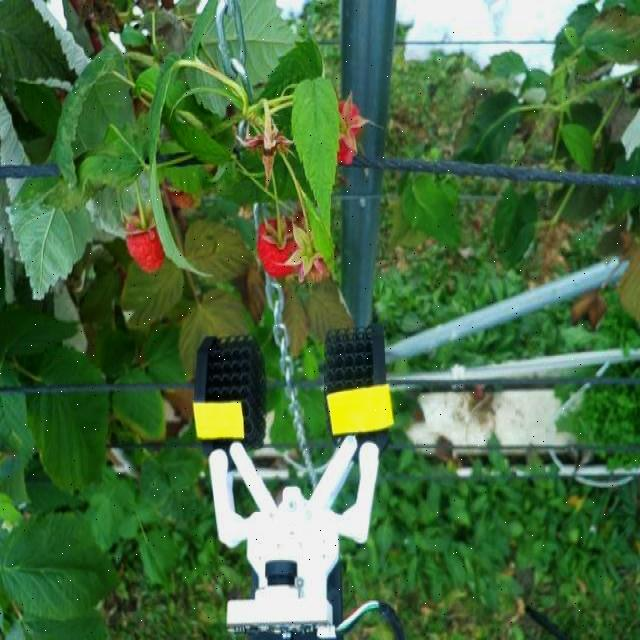Riped berries: (255, 214, 312, 285), (121, 207, 171, 274), (328, 92, 370, 164)
